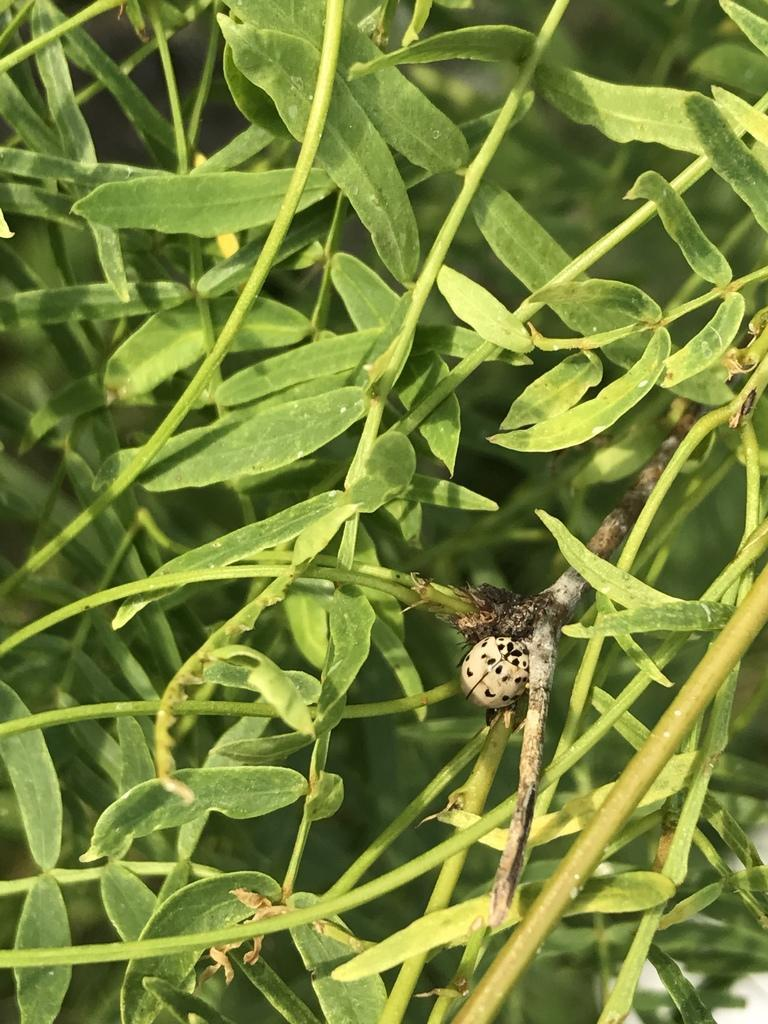ladybug: (456, 632, 535, 712)
